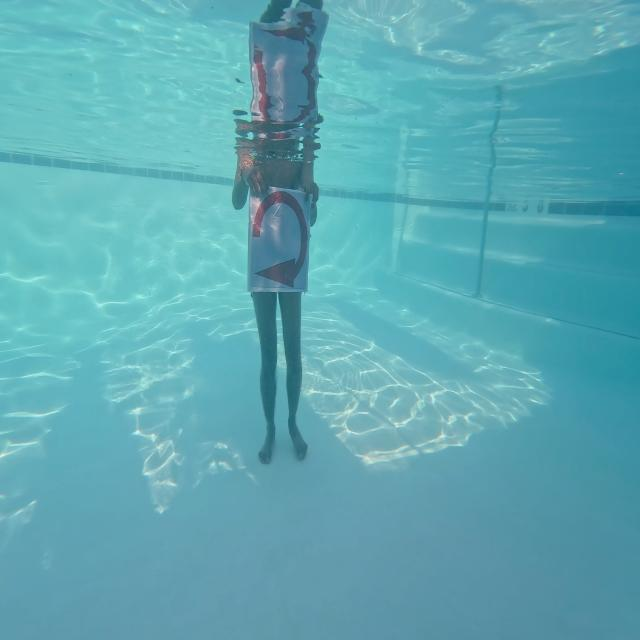red_side: (248, 186, 310, 296)
